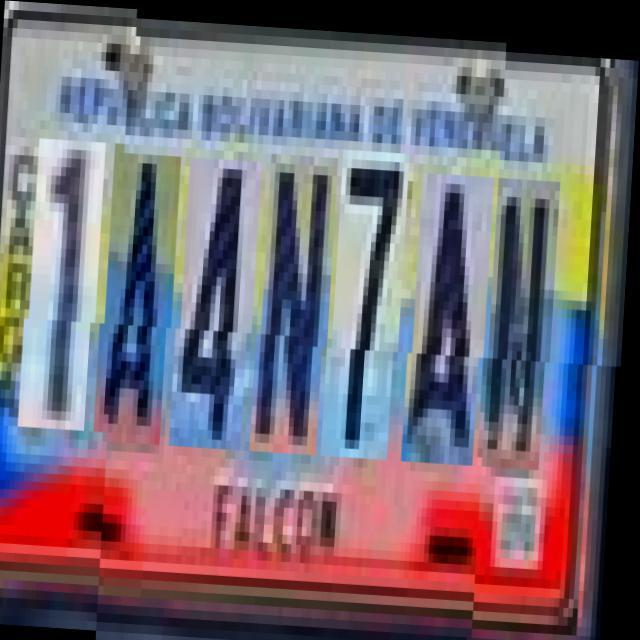1: (27, 146, 107, 438)
4: (179, 155, 263, 447)
7: (331, 144, 412, 454)
A: (412, 167, 496, 459), (103, 150, 183, 442)
N: (260, 150, 340, 451), (488, 162, 562, 454)
